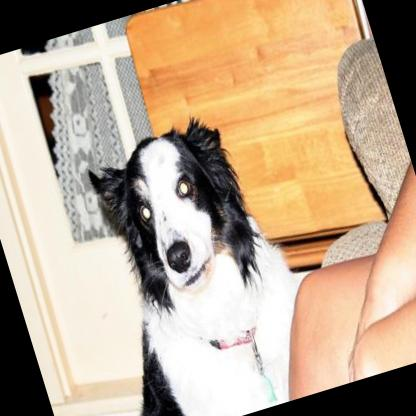Border_collie: (55, 101, 330, 416)
